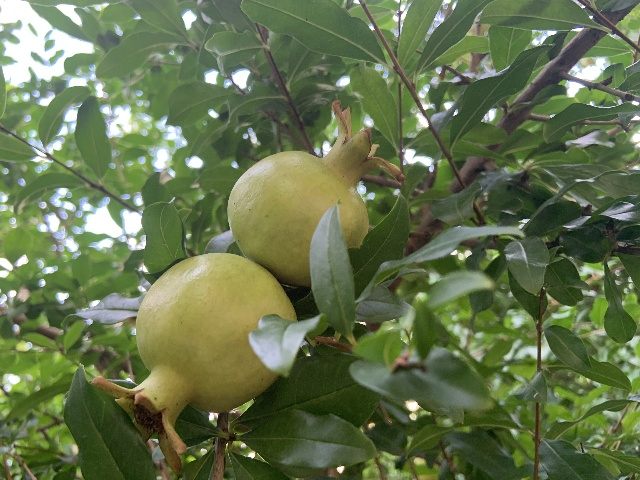mid-growth: (90, 253, 297, 476), (227, 98, 401, 287)
